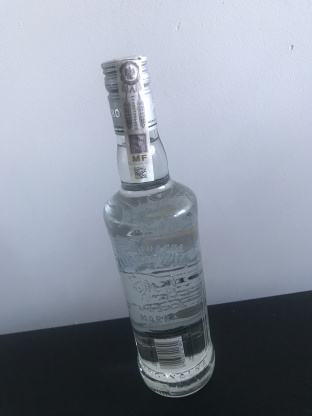nakretka: (98, 52, 159, 139)
